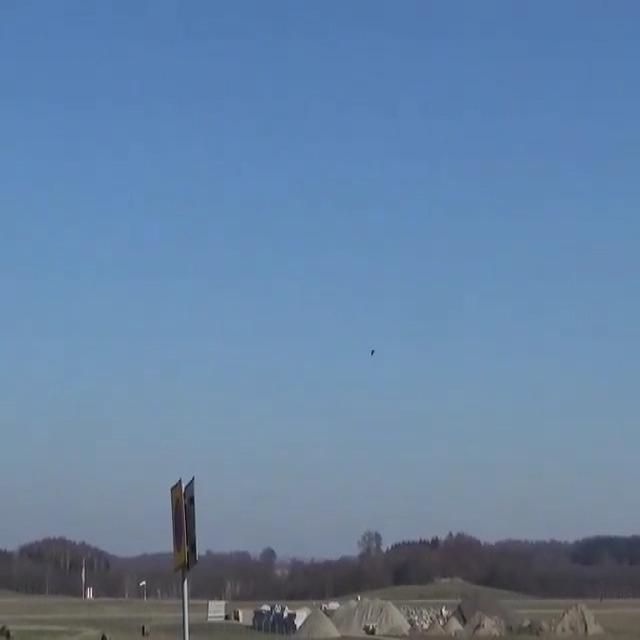bird: (368, 342, 377, 362)
